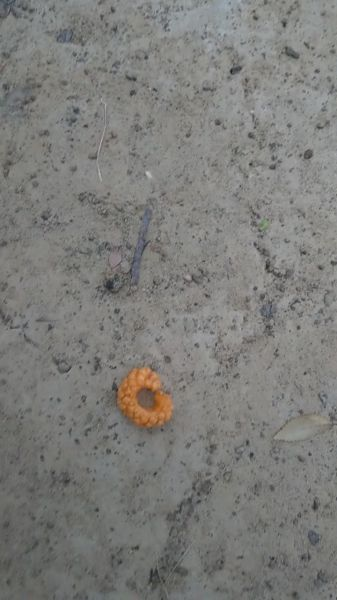eggs: (116, 360, 182, 434)
